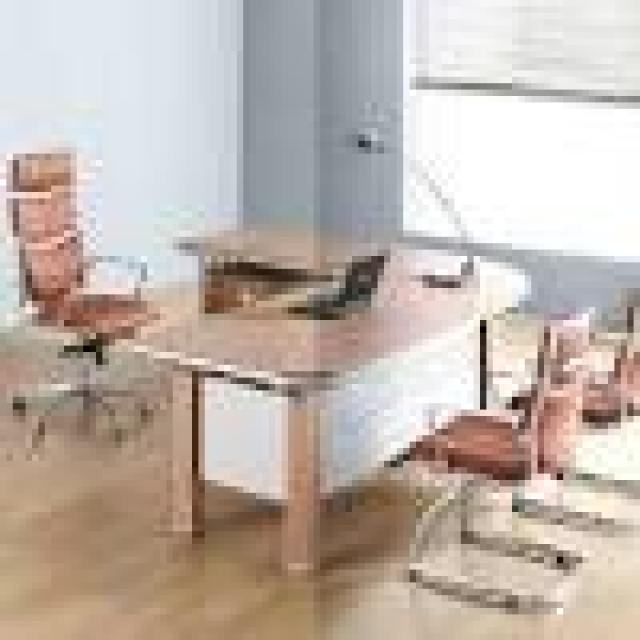chair: (0, 93, 196, 476), (386, 302, 604, 600), (567, 273, 640, 449)
